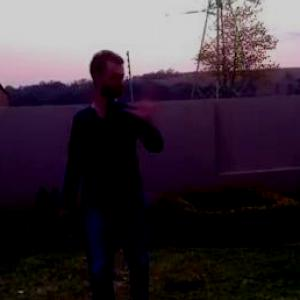follow_hand: (123, 80, 168, 120)
